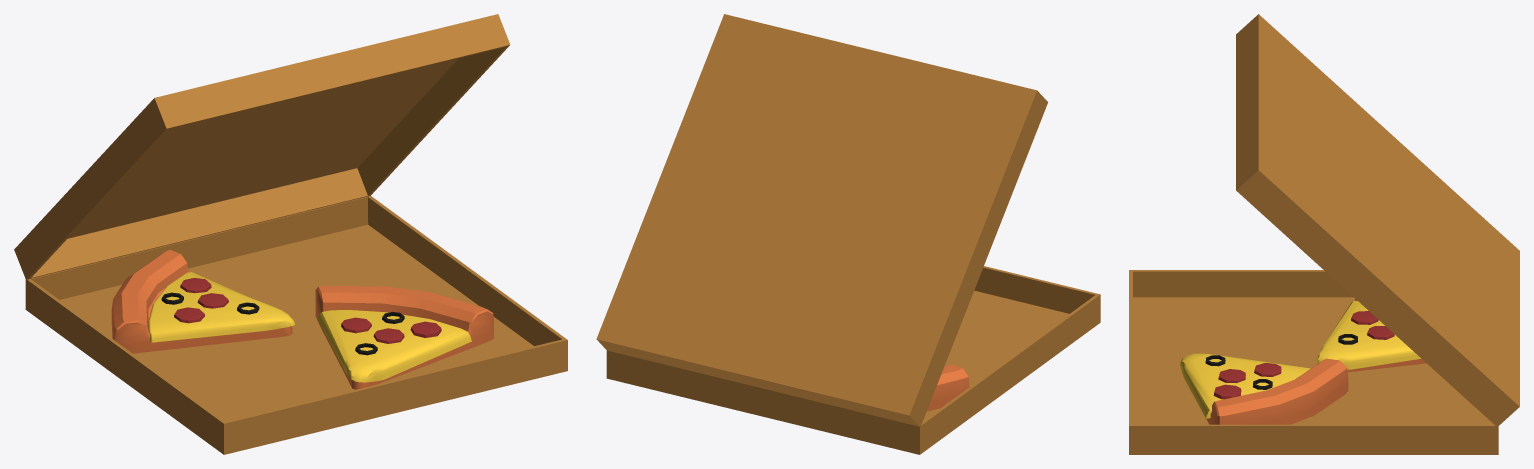
File: pizza.glb
3 renders of one model, left to right at view 1: azimuth 30°, elevation 25°; view 2: azimuth 150°, elevation 25°; view 3: azimuth 270°, elevation 25°, orthographic. The views are drawn at different scales.
Visible parts, largest first — view 1: pizza; view 2: pizza; view 3: pizza.
Boxes of the visible parts, box(x1,y1,x2,y2) form: pizza: box(14, 14, 567, 454); pizza: box(596, 14, 1100, 454); pizza: box(1129, 14, 1519, 454).
Bounding box in the file's own units: 0.3476 × 0.2957 × 0.3676.
Materials: 1 (1 with a texture image).
